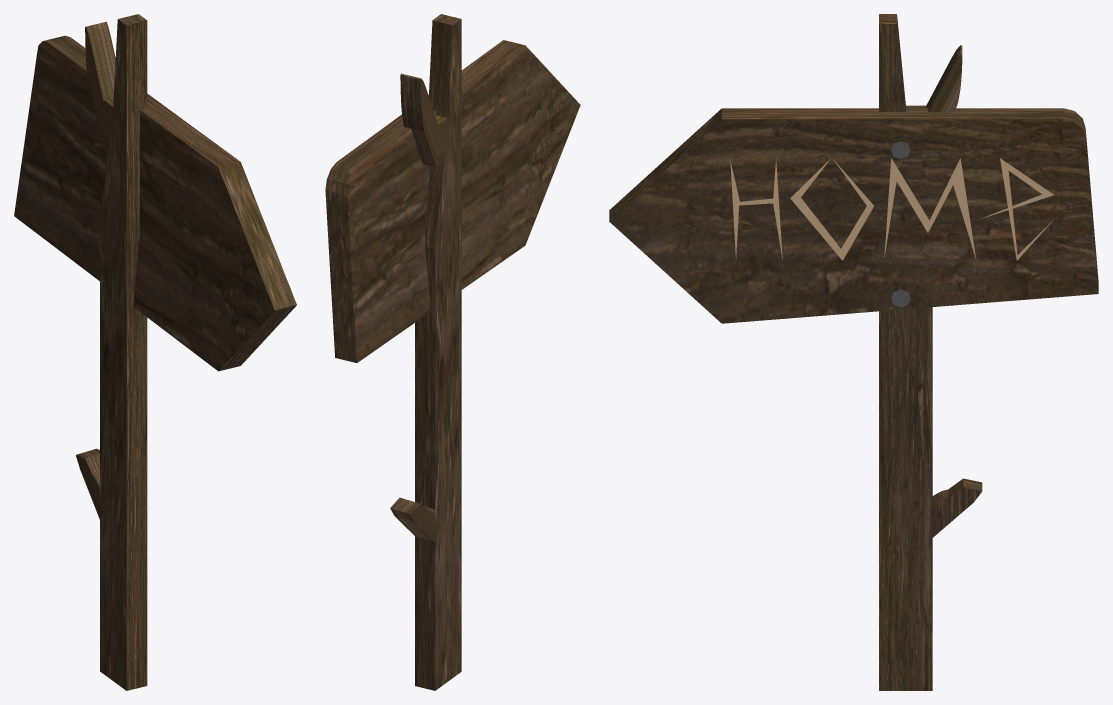
The model's file is tabela.fbx.
3 views of the same model, side by side, from view 1: azimuth 30°, elevation 25°; view 2: azimuth 150°, elevation 25°; view 3: azimuth 270°, elevation 25° (orthographic). The views are drawn at different scales.
Parts seen in each view (by area): view 1: Plane; view 2: Plane; view 3: Plane.
Boxes of the visible parts, x1,y1,x2,y2 form: Plane: [14, 14, 296, 690]; Plane: [325, 14, 580, 690]; Plane: [609, 14, 1098, 690].
Size of the model in its own units: 47.64 by 652 by 434.
